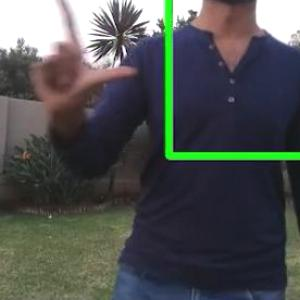land_hand: (21, 0, 141, 105)
